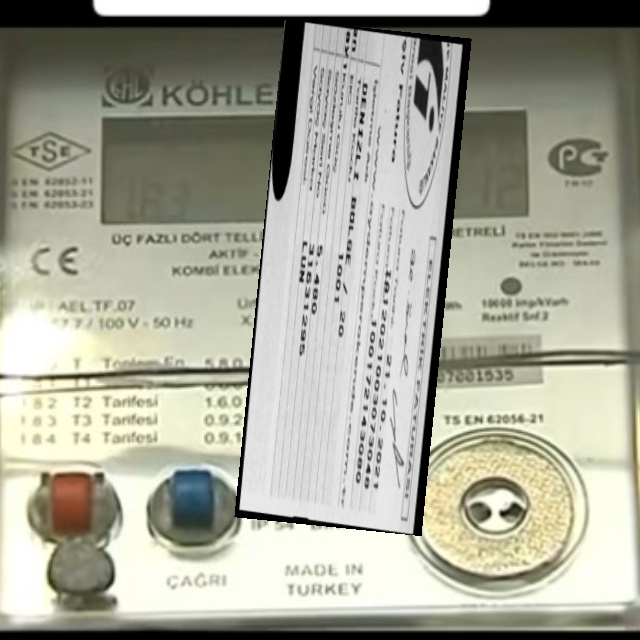electricity-bill: (233, 20, 471, 536)
